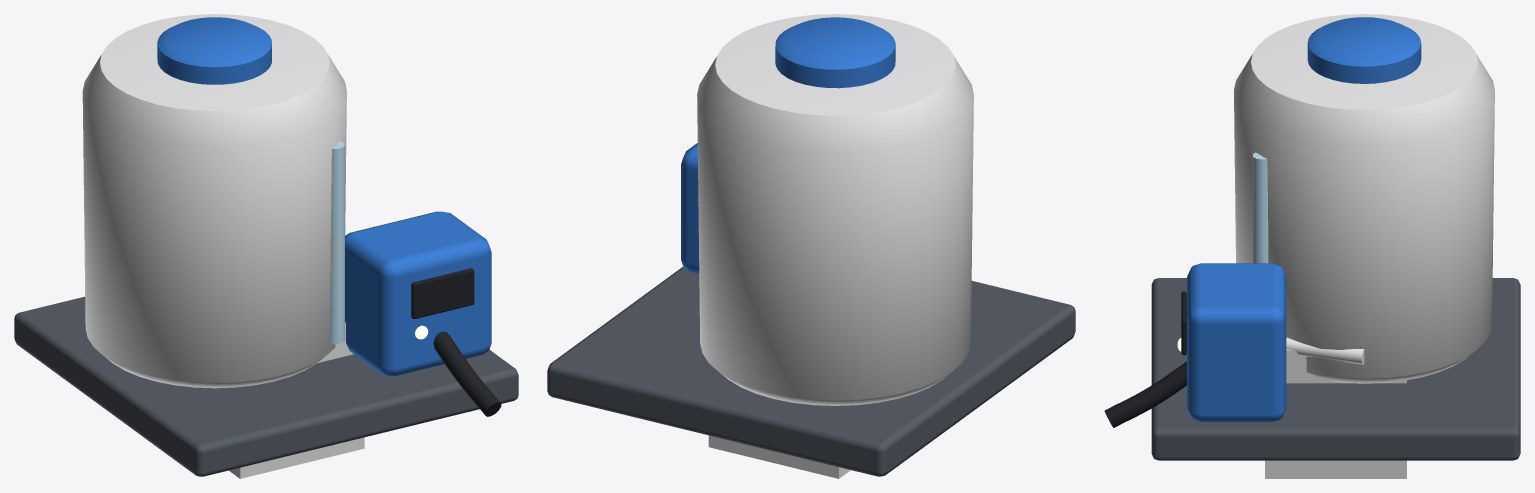
The model's file is Fertilizer.fbx.
The picture shows the model from 3 angles, left to right: view 1: azimuth 30°, elevation 25°; view 2: azimuth 150°, elevation 25°; view 3: azimuth 270°, elevation 25°; orthographic projection. The views are drawn at different scales.
Visible parts, largest first — view 1: Body__White, Body__MetalDark, Body__Blue, Body__Black, Body__Glass, Origin__Pivot; view 2: Body__White, Body__MetalDark, Body__Blue, Origin__Pivot; view 3: Body__White, Body__MetalDark, Body__Blue, Origin__Pivot, Body__Black, Body__Glass.
Part boxes in pixels (left/top/right/bottom): Body__White: left=82, top=14, right=346, bottom=388; Body__MetalDark: left=14, top=296, right=518, bottom=476; Body__Blue: left=157, top=17, right=491, bottom=376; Body__Black: left=411, top=268, right=501, bottom=416; Body__Glass: left=329, top=141, right=344, bottom=344; Origin__Pivot: left=229, top=322, right=364, bottom=478; Body__White: left=697, top=14, right=973, bottom=405; Body__MetalDark: left=547, top=267, right=1075, bottom=476; Body__Blue: left=681, top=17, right=895, bottom=273; Origin__Pivot: left=708, top=435, right=850, bottom=478; Body__White: left=1234, top=14, right=1494, bottom=383; Body__MetalDark: left=1151, top=278, right=1520, bottom=460; Body__Blue: left=1187, top=17, right=1421, bottom=421; Origin__Pivot: left=1265, top=349, right=1406, bottom=478; Body__Black: left=1104, top=291, right=1186, bottom=427; Body__Glass: left=1253, top=152, right=1268, bottom=263.
Size of the model in its own units: 2.6 by 3.06 by 2.93.
